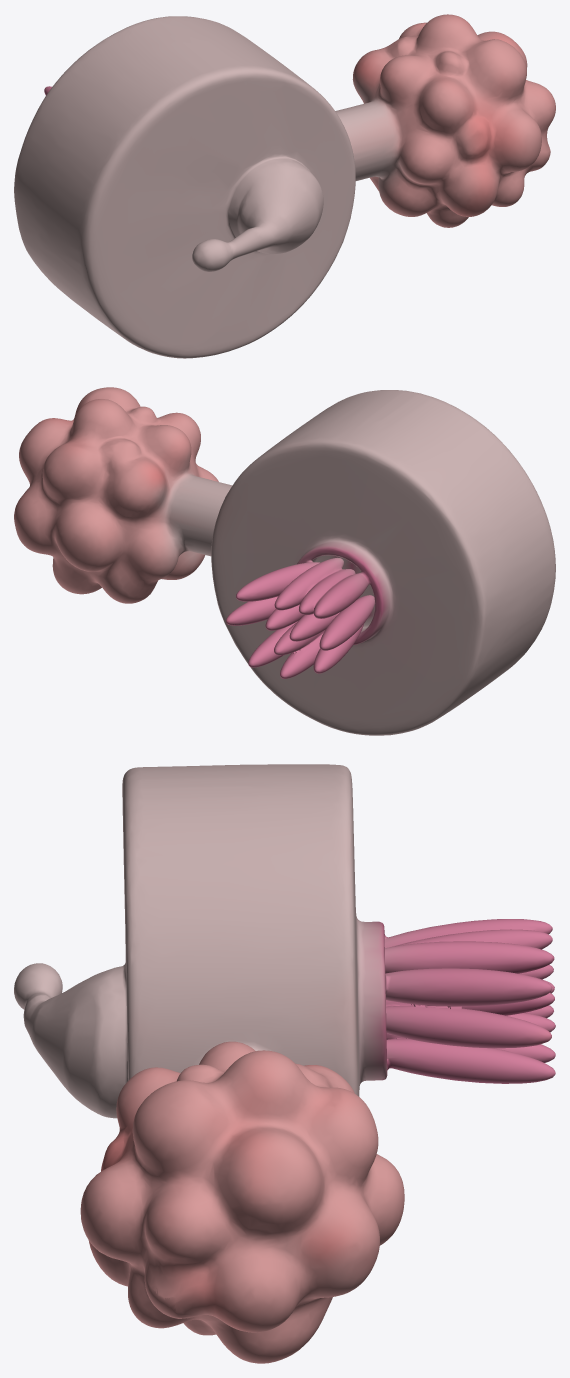
3 views of the same model, one above another, from view 1: azimuth 30°, elevation 25°; view 2: azimuth 150°, elevation 25°; view 3: azimuth 270°, elevation 25° (orthographic). The views are drawn at different scales.
Bounding box in the file's own units: 10.66 × 5.95 × 6.73.
